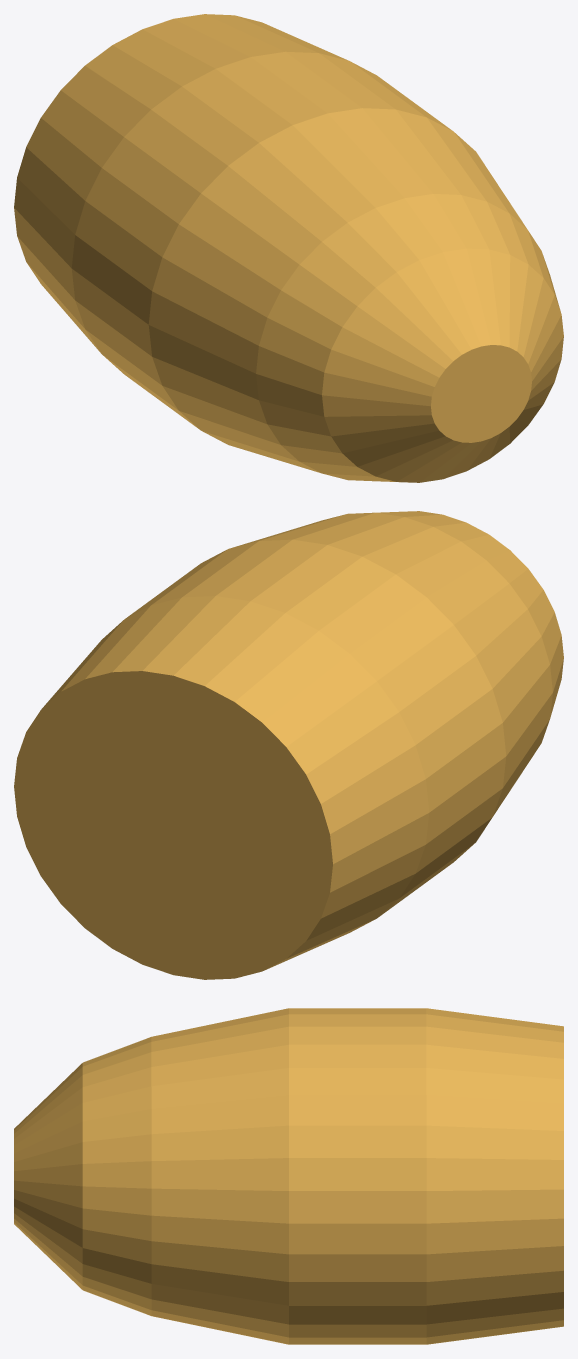
Rendered from bullet.glb.
The picture shows the model from 3 angles, top to bottom: view 1: azimuth 30°, elevation 25°; view 2: azimuth 150°, elevation 25°; view 3: azimuth 270°, elevation 25°; orthographic projection. The views are drawn at different scales.
Visible parts, largest first — view 1: Cylinder; view 2: Cylinder; view 3: Cylinder.
Boxes of the visible parts, x1,y1,x2,y2 form: Cylinder: [14, 14, 563, 482]; Cylinder: [14, 511, 563, 979]; Cylinder: [14, 1008, 563, 1344].
Size of the model in its own units: 0.0393 by 0.0353 by 0.0586.
